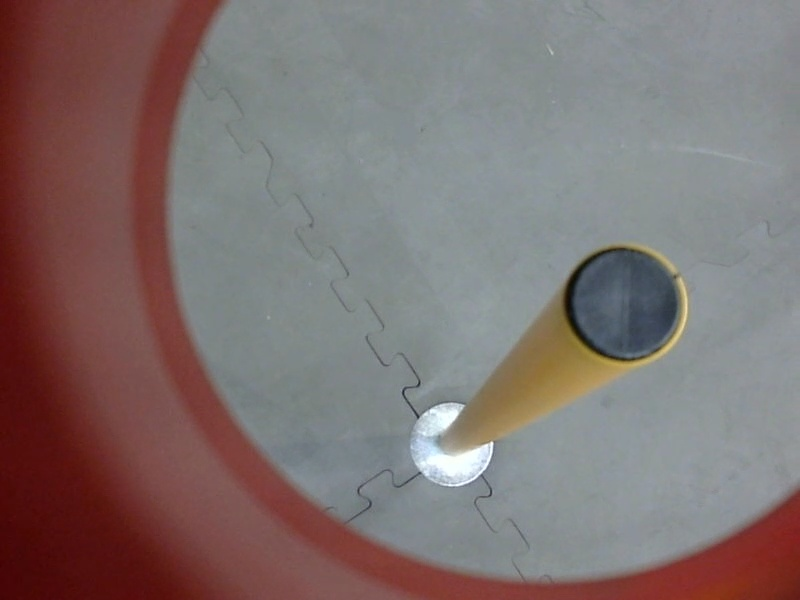tip: (557, 234, 697, 372)
